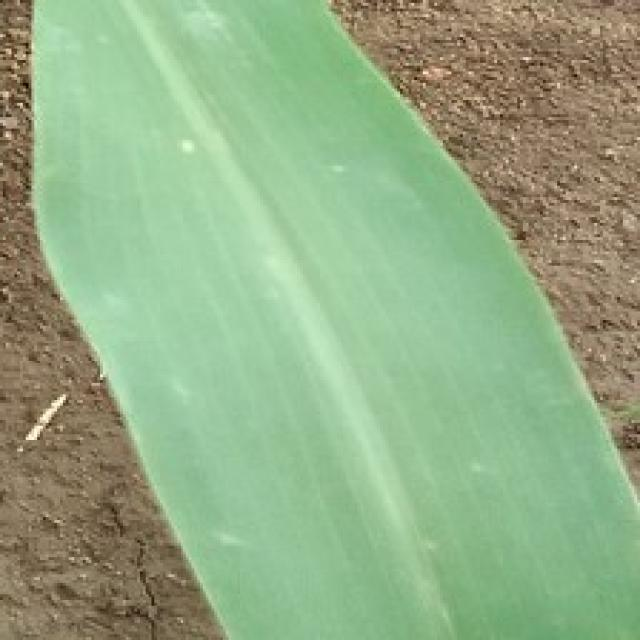Corn: (23, 0, 637, 637)
